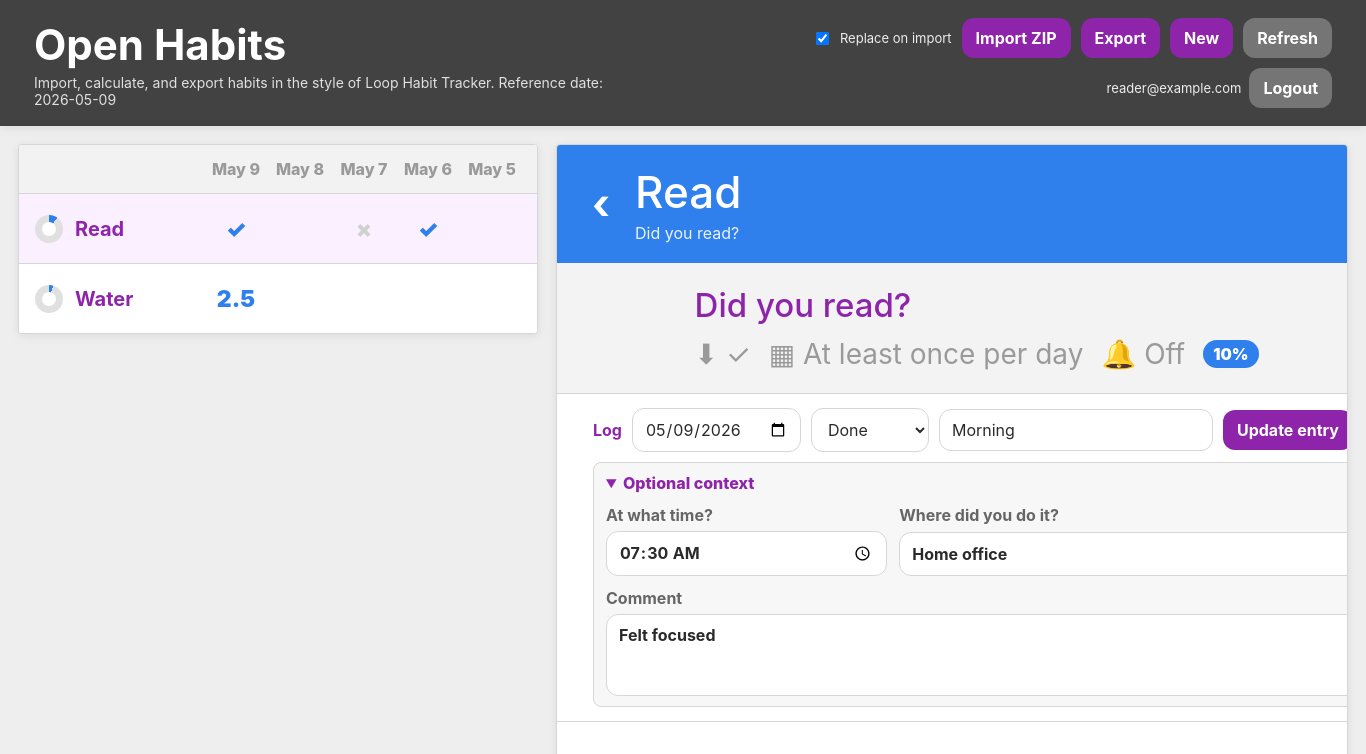
Test: App UI flows › exports Android-compatible and backup ZIPs from fresh data
Expected: the heading "Read" is shown, [635,165,741,219]
Click the button "Export".
click(1120, 38)  # box [1080,18,1160,58]
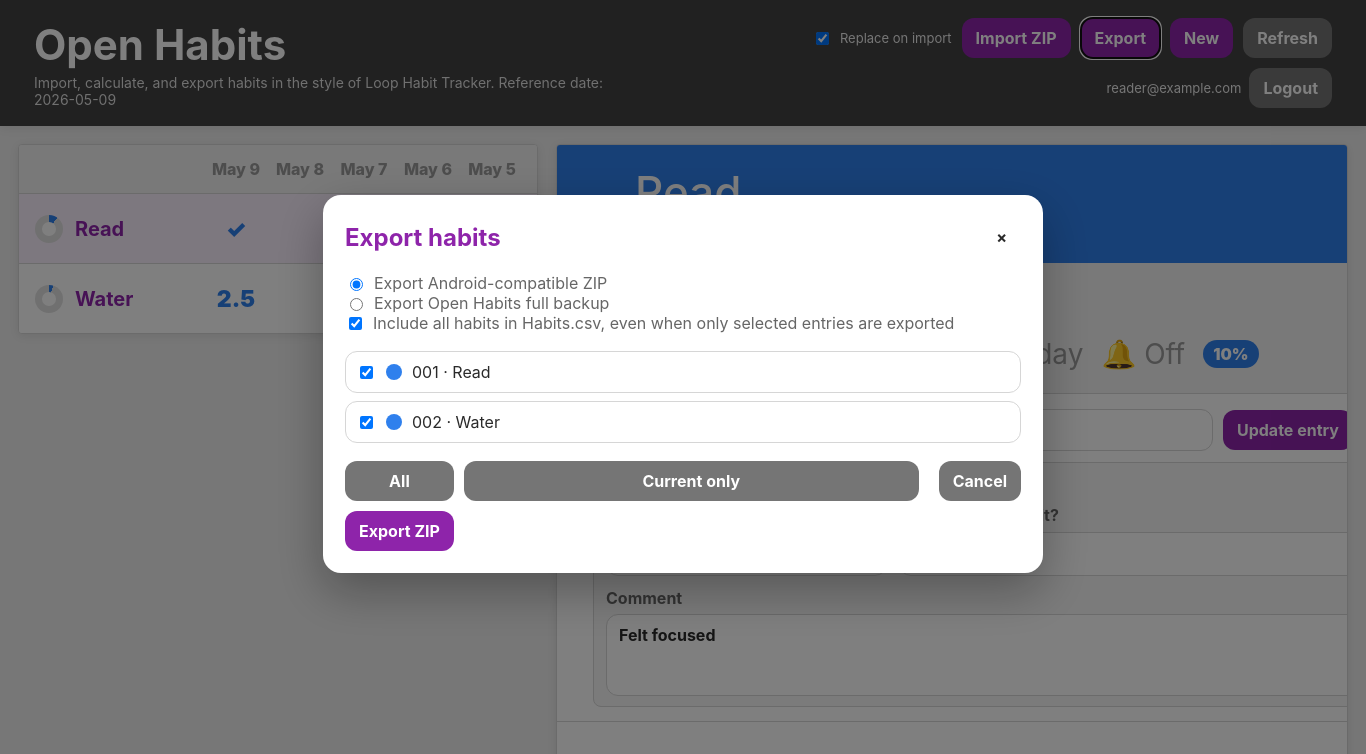
Click the button "Current only".
click(691, 481)  # box [464,461,919,501]
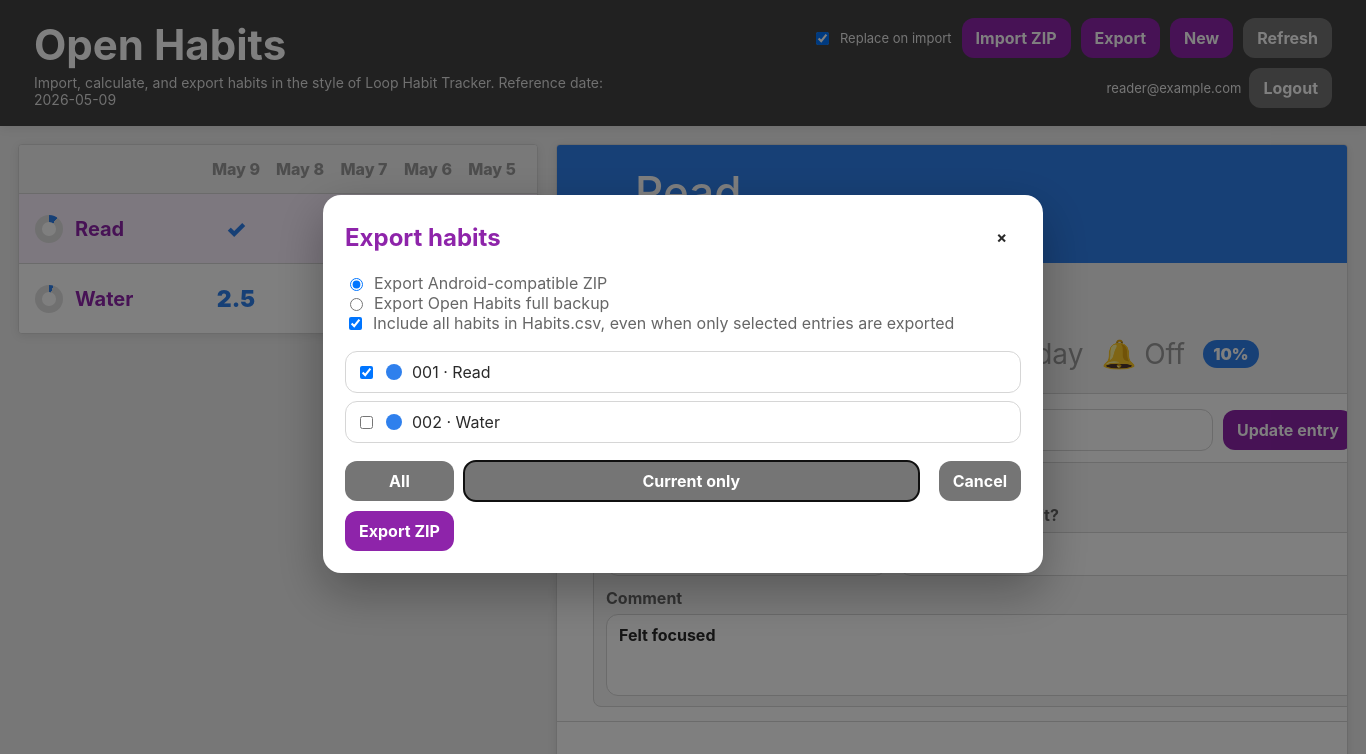
Click the button "Export ZIP".
click(399, 531)  # box [345,511,454,551]
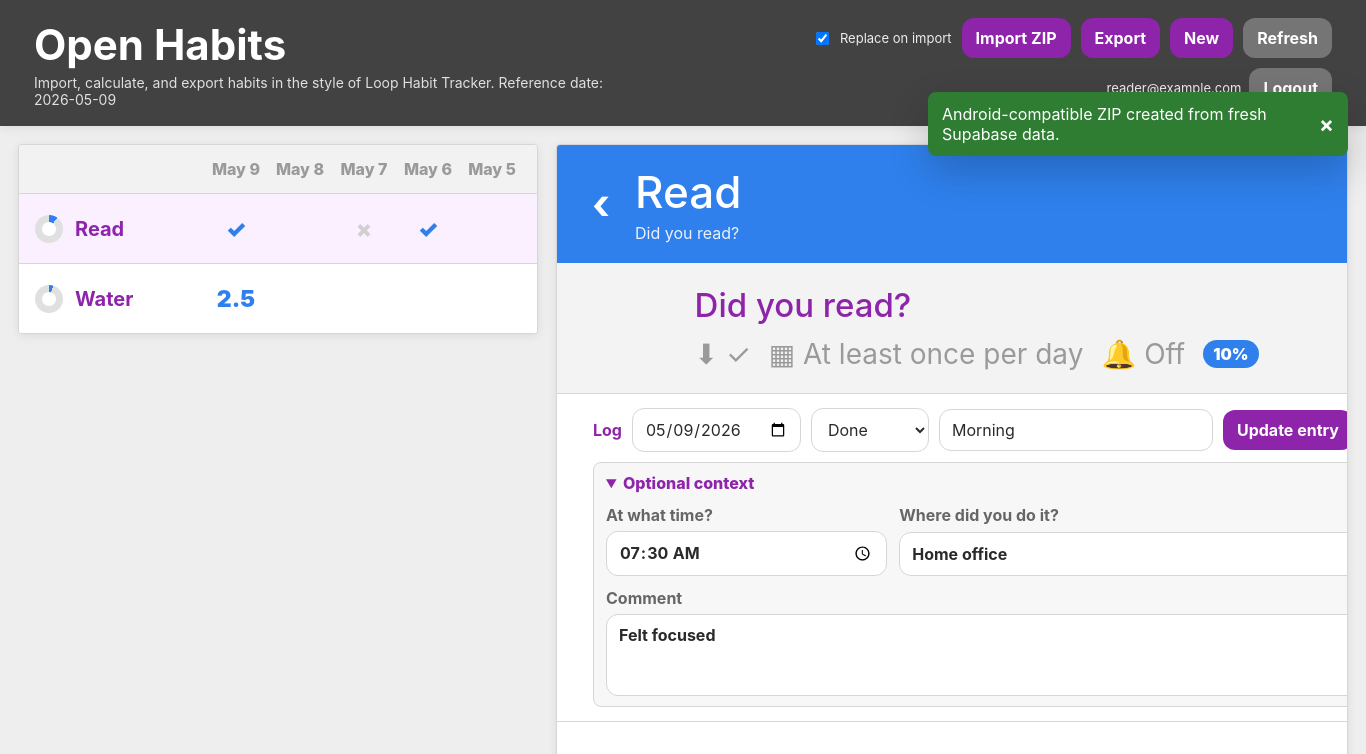
Expected: the text "Android-compatible ZIP created from fresh Supabase data." is shown, [942,104,1307,144]
Click the button "Export".
click(1120, 38)  # box [1080,18,1160,58]
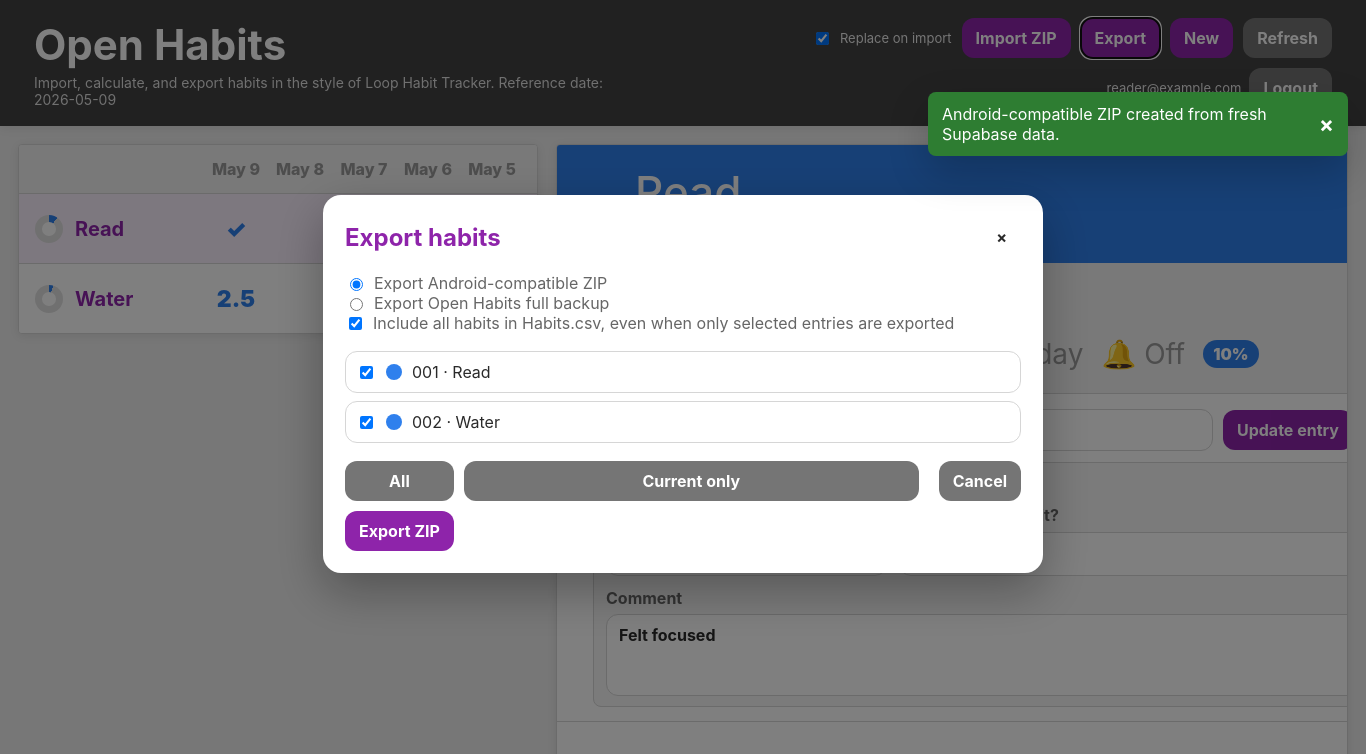
Click the radio button labelled "Export Open Habits full backup".
click(356, 304)  # box [350,298,363,311]
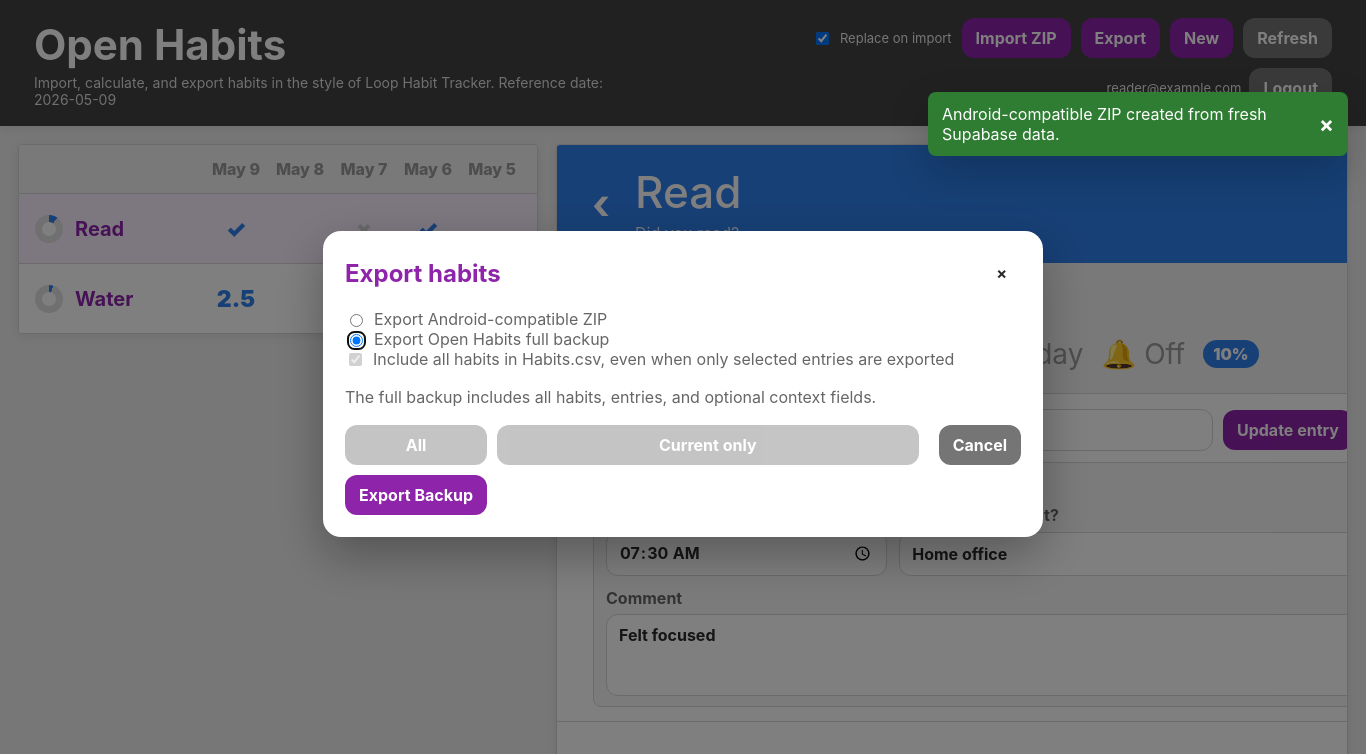
Click the button "Export Backup".
click(416, 495)  # box [345,475,487,515]
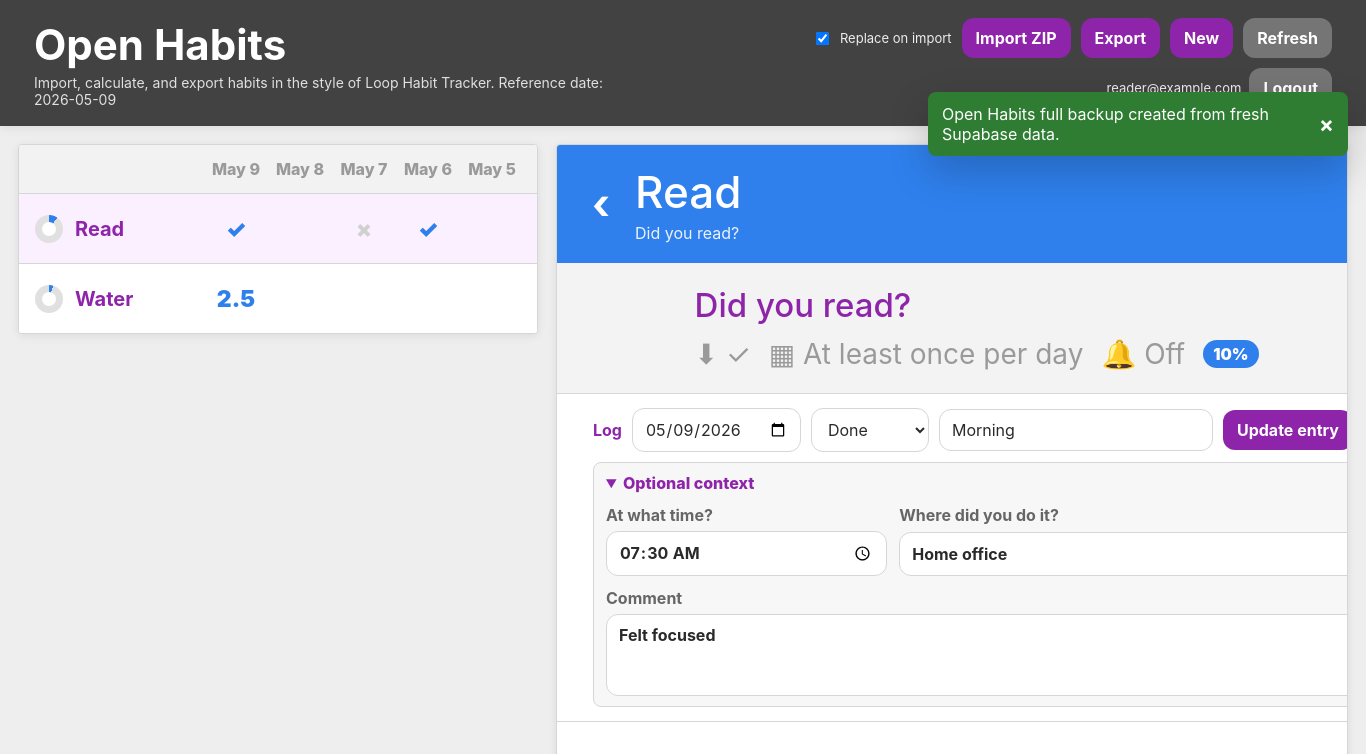
Expected: the text "Open Habits full backup created from fresh Supabase data." is shown, [942,104,1307,144]
